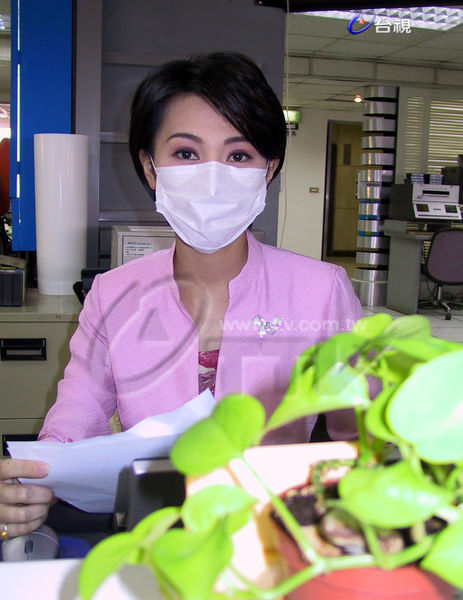mask: (153, 161, 268, 252)
